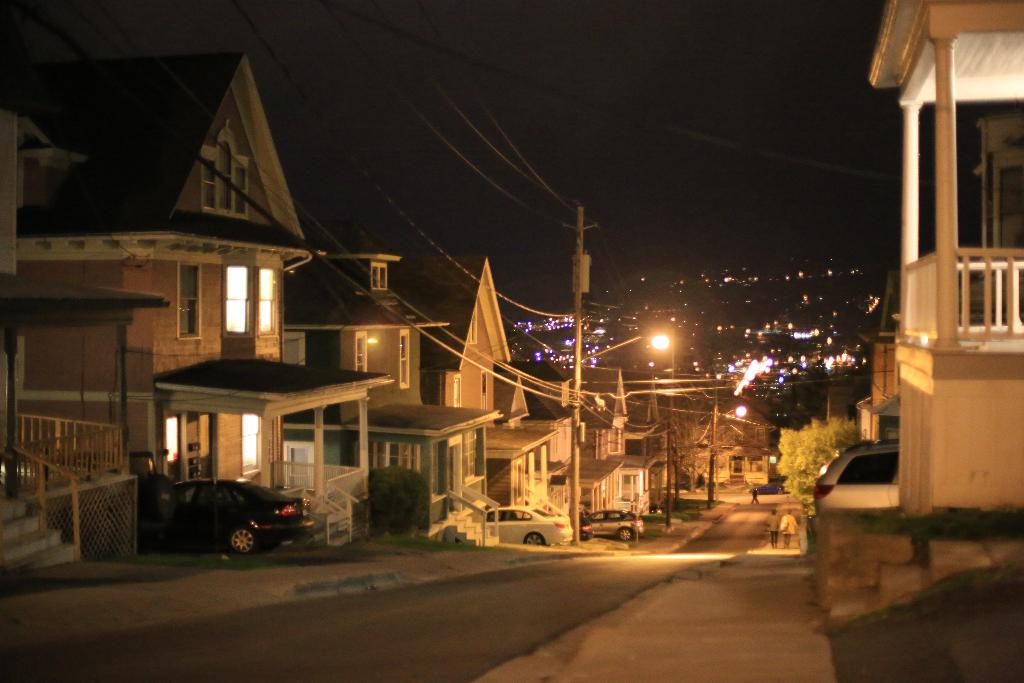Car: (133, 477, 308, 552), (821, 444, 903, 502), (484, 500, 574, 546), (583, 504, 644, 541)
